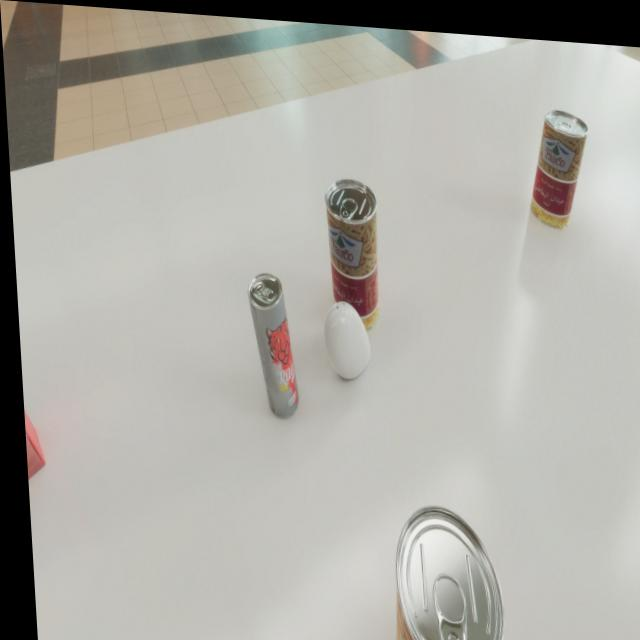Potato_sticks: (379, 496, 500, 640), (322, 172, 381, 329), (524, 100, 592, 223)
Rita_zero_sugar: (243, 268, 295, 416)
Salt: (318, 295, 368, 375)
